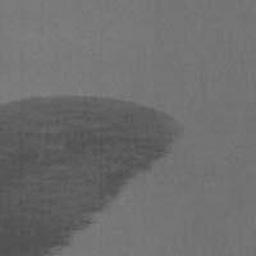Oil spot: (0, 93, 183, 256)
